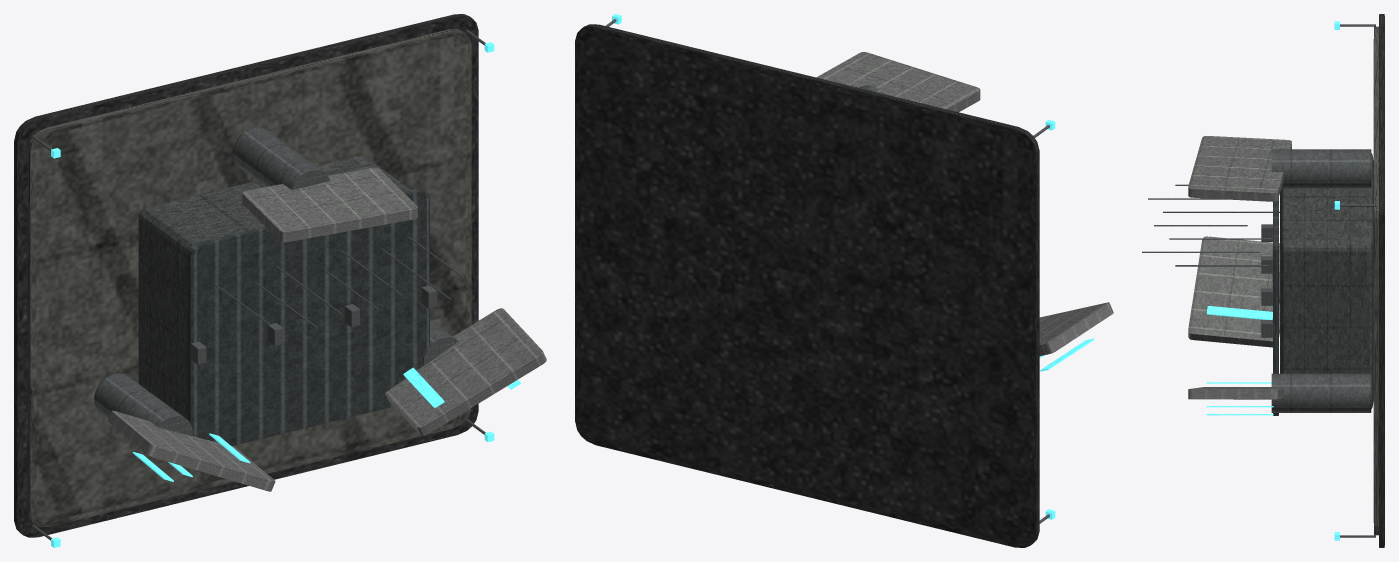
Rendered from b-24-jammer-lod0.glb.
3 views of the same model, side by side, from view 1: azimuth 30°, elevation 25°; view 2: azimuth 150°, elevation 25°; view 3: azimuth 270°, elevation 25° (orthographic). The views are drawn at different scales.
Parts seen in each view (by area): view 1: foundation_inner_pad, jammer_core_roof, foundation, jammer_core_main_hall, primary_jammer_array_1, primary_jammer_array_2, primary_jammer_array_0, array_pedestal_2, array_pedestal_0, array_pedestal_1; view 2: foundation, primary_jammer_array_2, primary_jammer_array_0; view 3: jammer_core_main_hall, primary_jammer_array_0, primary_jammer_array_2, array_pedestal_1, array_pedestal_2, foundation, foundation_inner_pad, primary_jammer_array_1, jammer_core_roof, jammer_cell_0_2.
Part boxes in pixels (x1,y1,x2,y2): foundation_inner_pad: (27,29,471,527); jammer_core_roof: (187,189,429,445); foundation: (14,14,478,537); jammer_core_main_hall: (138,155,411,418); primary_jammer_array_1: (385,308,546,436); primary_jammer_array_2: (242,167,417,242); primary_jammer_array_0: (107,410,275,491); array_pedestal_2: (232,127,330,190); array_pedestal_0: (94,373,192,436); array_pedestal_1: (422,320,458,366); foundation: (575,24,1039,547); primary_jammer_array_2: (816,52,980,112); primary_jammer_array_0: (1039,302,1113,356); jammer_core_main_hall: (1280,153,1373,408); primary_jammer_array_0: (1188,236,1279,347); primary_jammer_array_2: (1188,136,1291,201); array_pedestal_1: (1271,373,1371,412); array_pedestal_2: (1271,149,1371,188); foundation: (1379,14,1384,547); foundation_inner_pad: (1373,26,1378,535); primary_jammer_array_1: (1188,387,1283,399); jammer_core_roof: (1273,197,1278,415); jammer_cell_0_2: (1206,306,1272,319).
Size of what is drawn, in the model's own units: 15 by 13 by 8.05.
8 materials, 8 textured.
